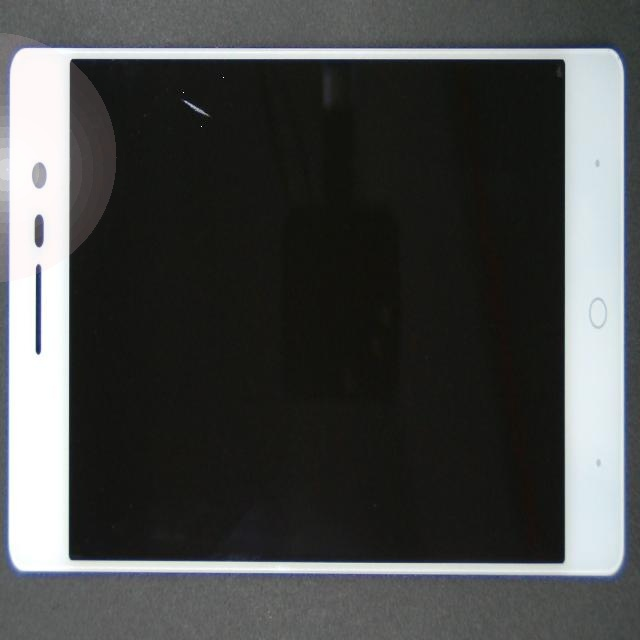scratch: (69, 51, 268, 183)
